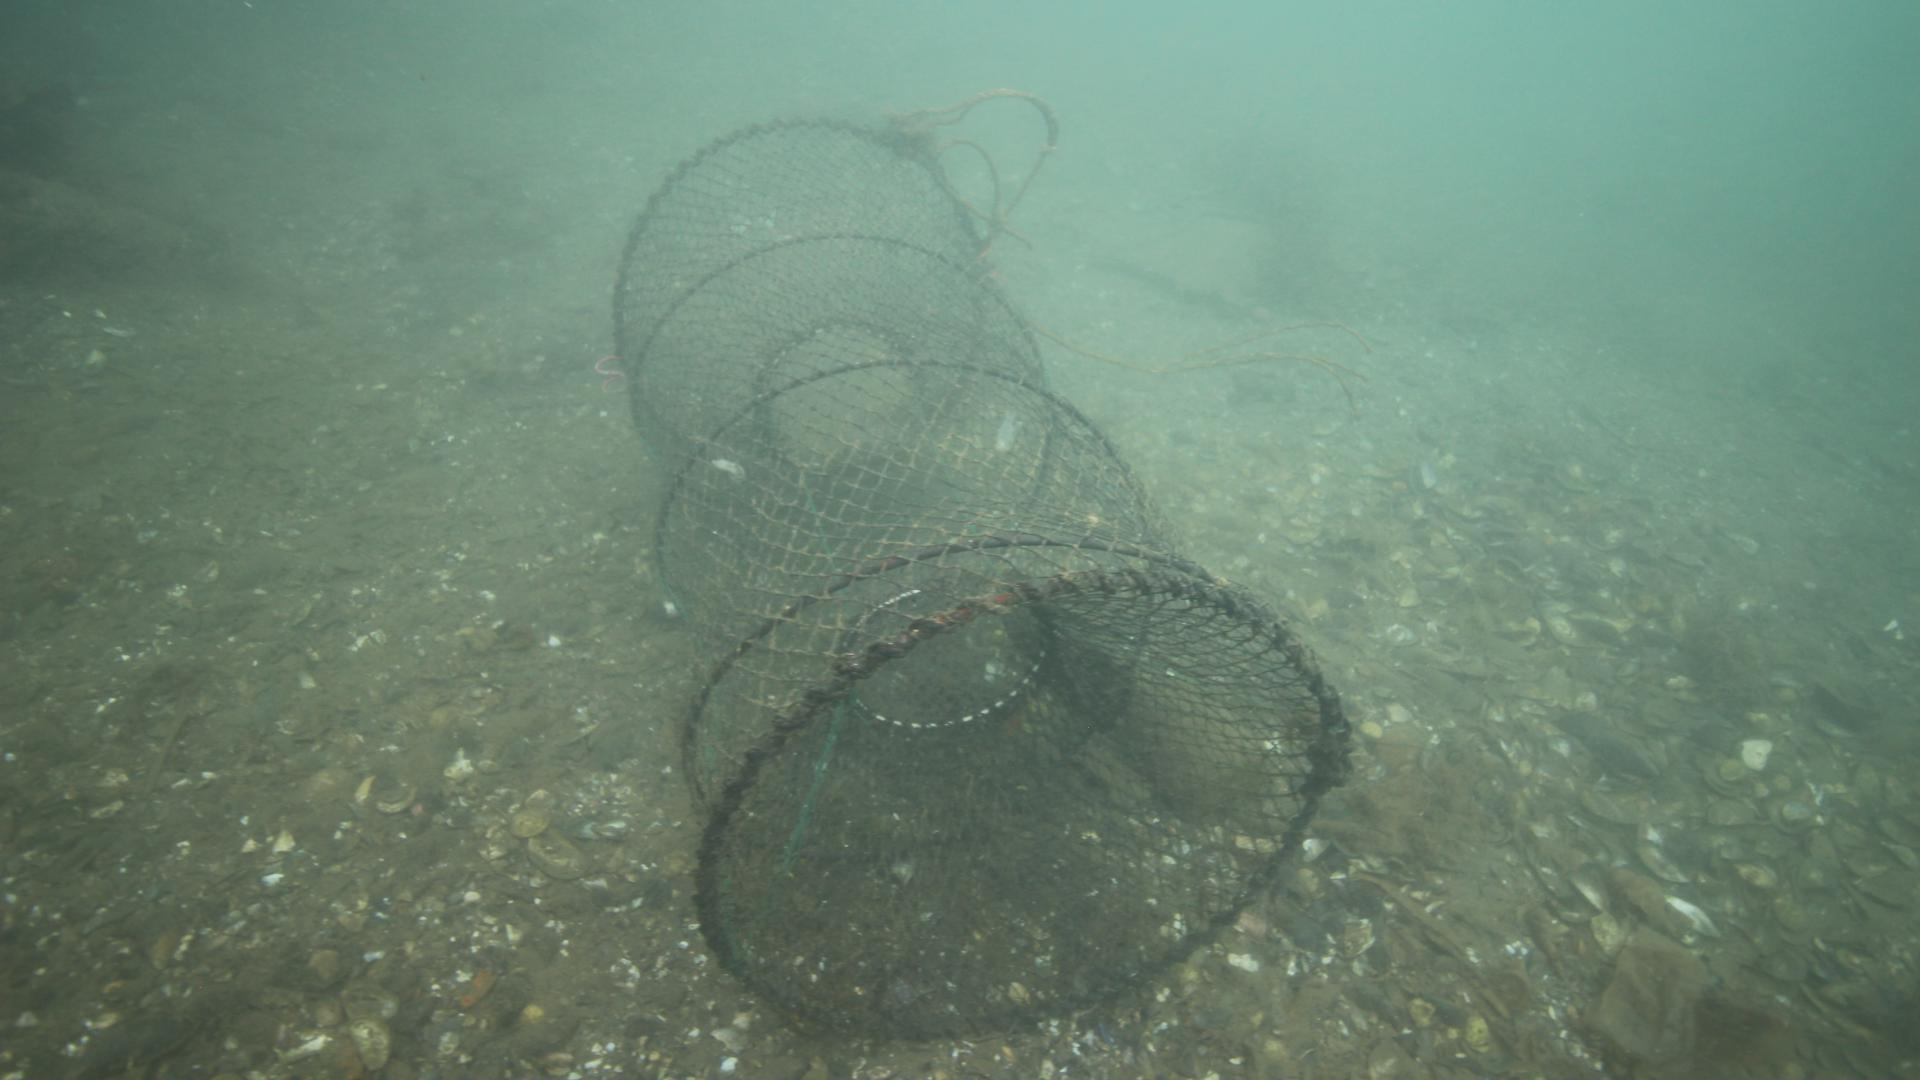bundle of ropes: (899, 84, 1063, 255)
spring fish trap: (608, 111, 1349, 1042)
